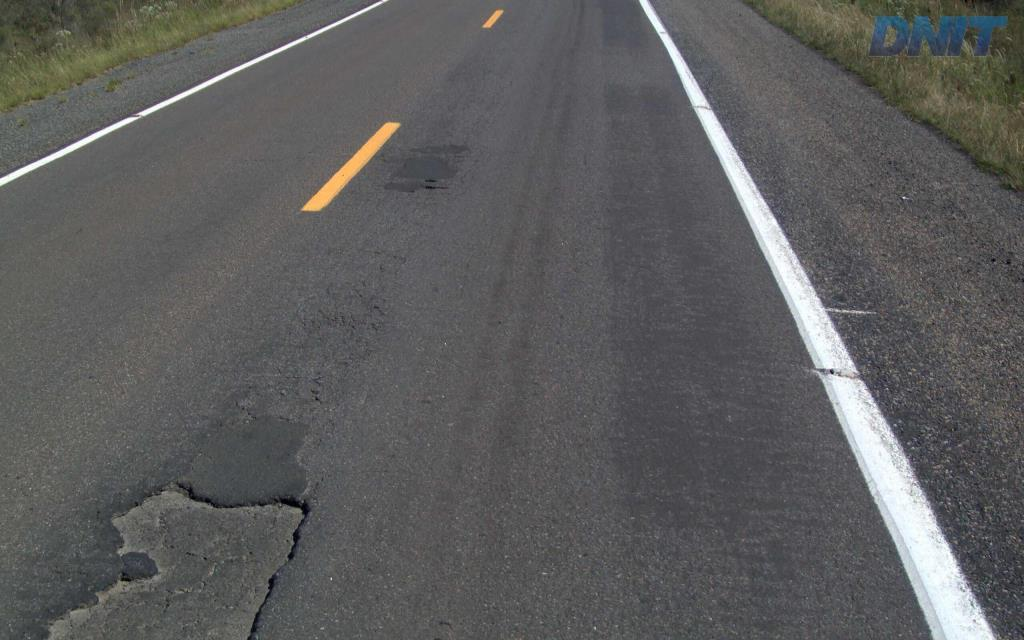pothole: (38, 479, 314, 638)
